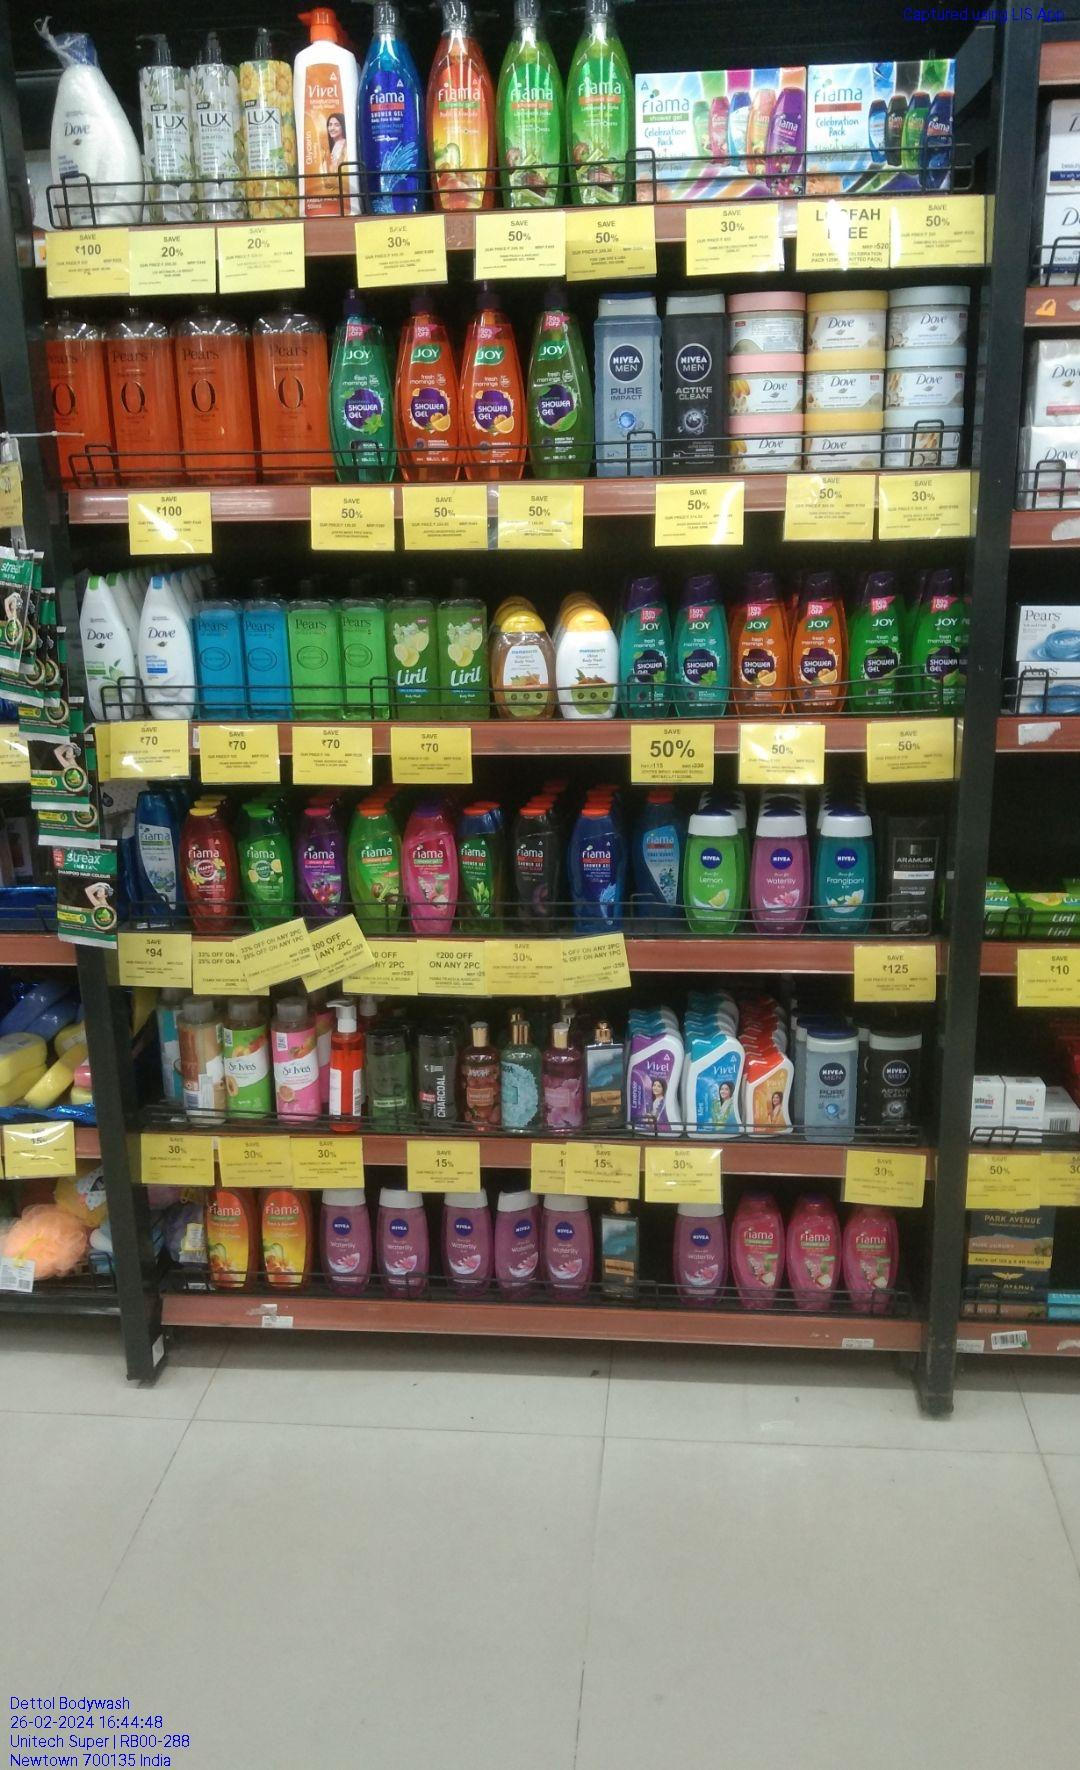Dove_Gentle_Exfoliating_Body_Wash_250ML: (138, 575, 191, 716)
Dove_Refreshing_Body_Wash_250ML: (82, 577, 132, 718)
Fiama_Shower_Gel_Lemongrass_and_Jojoba_250ML: (352, 812, 400, 934)
Fiama_Shower_Gel_Patchouli_and_Macadamia_250ML: (407, 805, 455, 934), (846, 1206, 902, 1317), (788, 1192, 837, 1312), (732, 1193, 780, 1307)
Joy_Shower_Gel_Mandarin_and_Lemongrass_250ML: (735, 574, 788, 716), (794, 570, 846, 712)
Joy_Shower_Gel_Mint_and_Eucalyptus_250ML: (622, 574, 672, 721), (678, 573, 726, 721), (726, 717, 726, 721)
Liril_Lime_and_Tea_Tree_Oil_Body_Wash_250ML: (439, 577, 491, 721), (388, 579, 436, 722)
Nivea_Shower_Gel_Frangipani_and_Oil_250ML: (816, 814, 876, 932)
Nivea_Shower_Gel_Lemon_and_Oil_250ML: (682, 810, 741, 938)
Nivea_Shower_Gel_Waterlily_and_Oil_250ML: (751, 814, 809, 929), (378, 1191, 430, 1297), (319, 1188, 369, 1296), (543, 1193, 594, 1292), (440, 1190, 489, 1292), (496, 1188, 539, 1305), (679, 1207, 725, 1298)
Pears_Pure_Glycerin_and_Lemon_Flower_Extracts_Body_Wash_250ML: (291, 579, 336, 721), (341, 575, 386, 721)
Pears_Pure_Glycerin_and_Mint_Extracts_Body_Wash_250ML: (195, 582, 242, 719), (247, 575, 287, 721)
